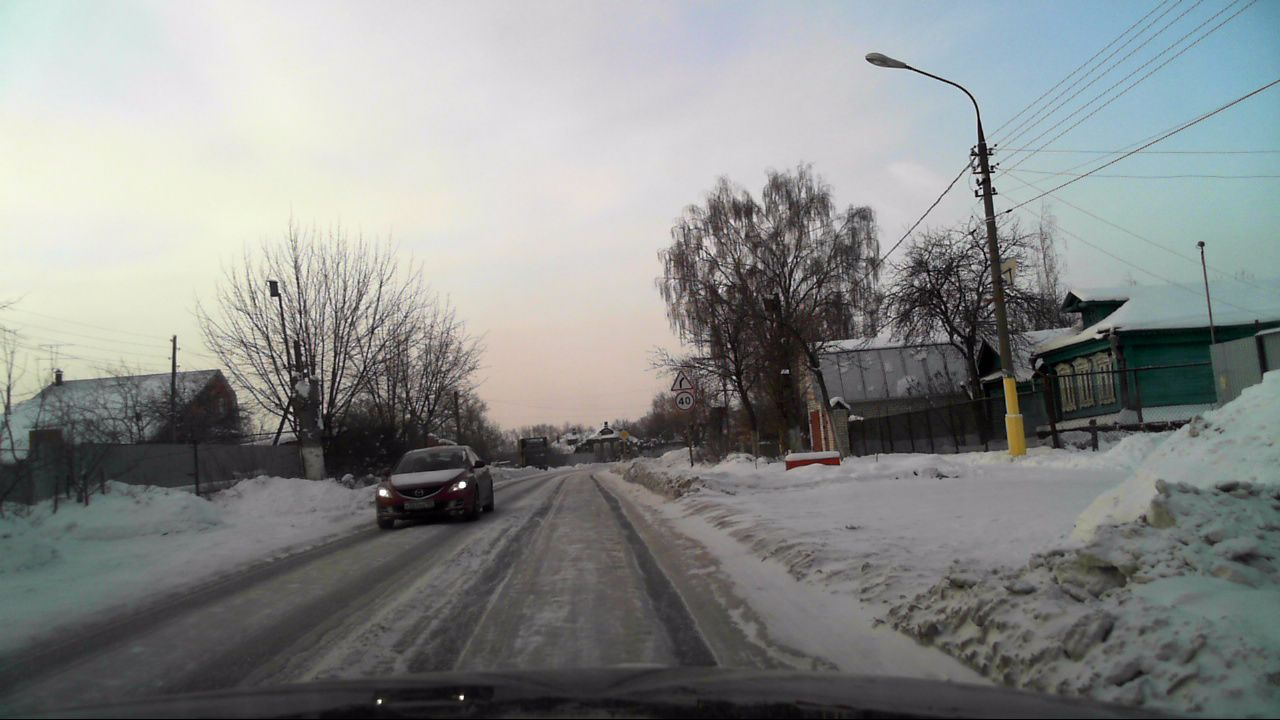speed_warning_40: (675, 391, 694, 412)
